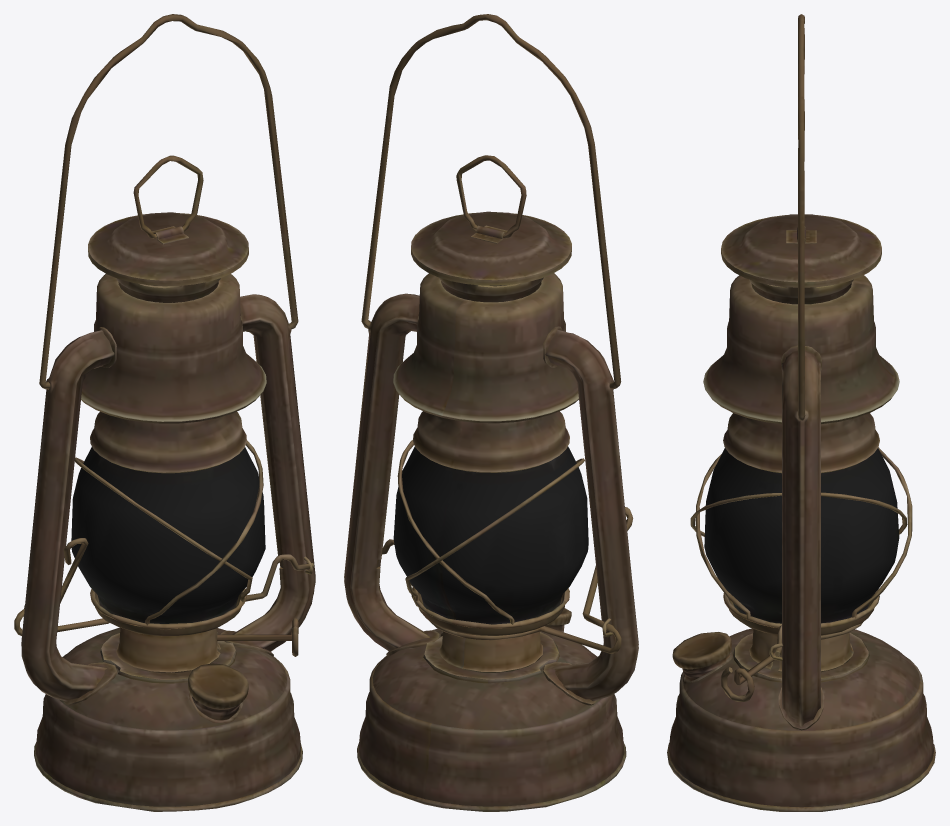
Rendered from hp_room_cc0_lantern.glb.
3 views of the same model, side by side, from view 1: azimuth 30°, elevation 25°; view 2: azimuth 150°, elevation 25°; view 3: azimuth 270°, elevation 25° (orthographic).
Visible parts, largest first — view 1: Lantern_01, Lantern_01_glass; view 2: Lantern_01, Lantern_01_glass; view 3: Lantern_01, Lantern_01_glass.
Part boxes in pixels (x1,y1,x2,y2): Lantern_01: (14,14,315,811); Lantern_01_glass: (71,447,265,623); Lantern_01: (344,14,638,811); Lantern_01_glass: (393,446,588,624); Lantern_01: (667,14,935,811); Lantern_01_glass: (704,448,899,623).
Size of the model in its own units: 0.1221 by 0.294 by 0.097.
Materials: 2 (2 with a texture image).
